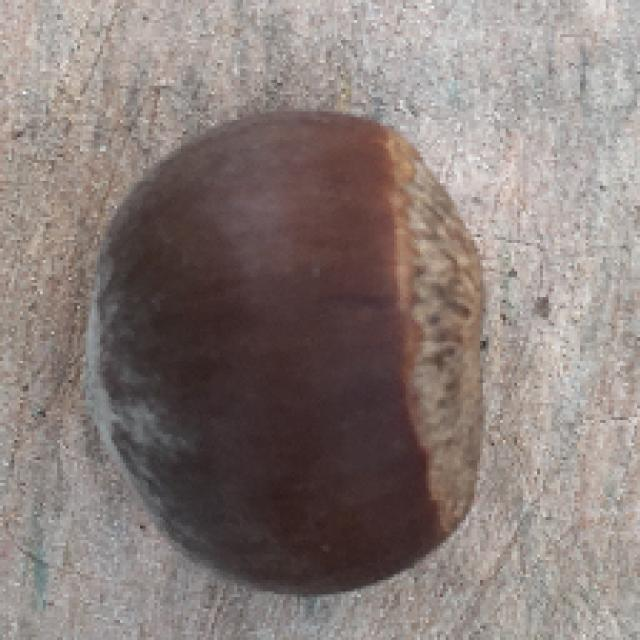DamagedHazelnut: (82, 104, 486, 596)
